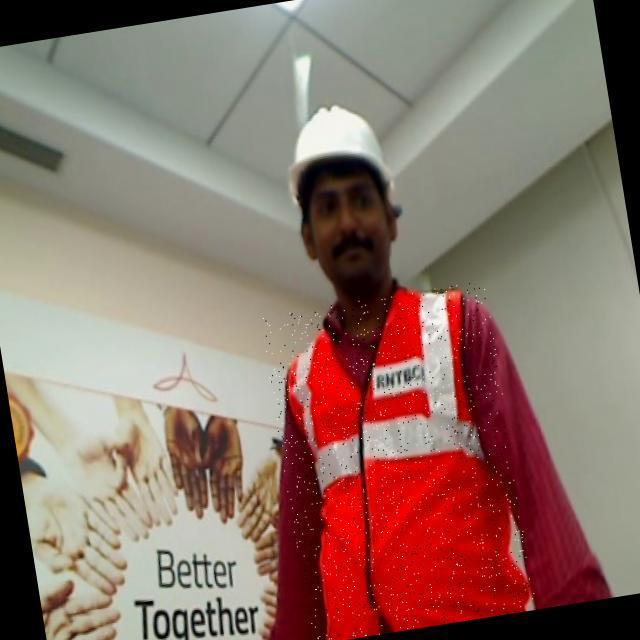helmet: (287, 97, 398, 215)
vest: (260, 280, 537, 640)
